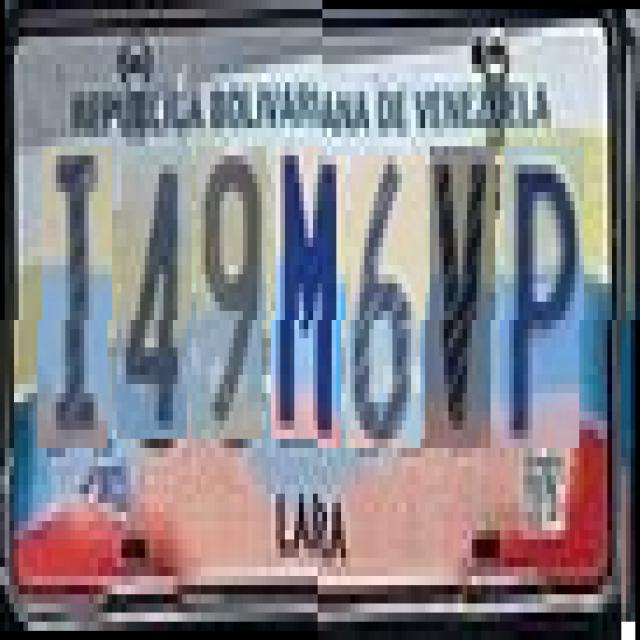4: (122, 155, 192, 448)
6: (350, 155, 425, 448)
9: (196, 155, 266, 448)
I: (42, 156, 112, 457)
M: (276, 155, 346, 448)
P: (504, 146, 584, 448)
V: (430, 146, 496, 448)
